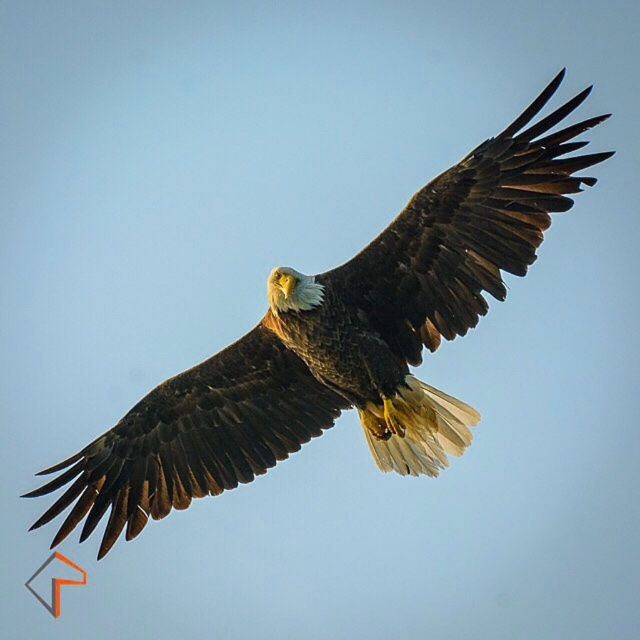Eagle: (19, 66, 616, 561)
